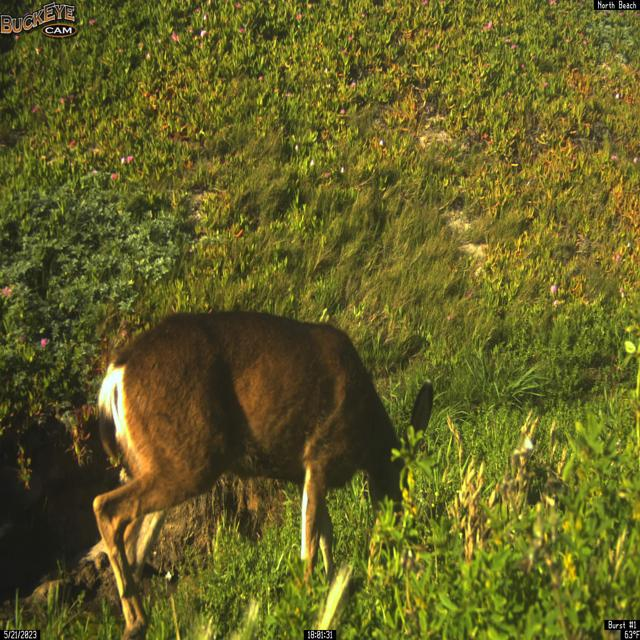deer: (92, 309, 435, 640)
